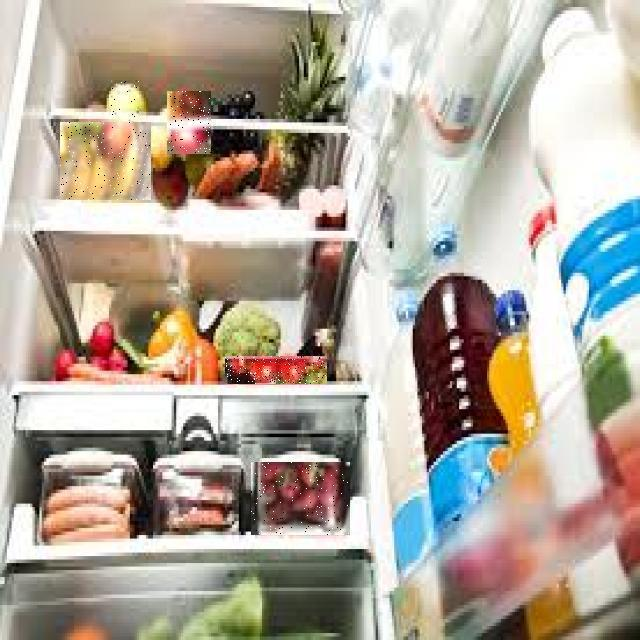apple: (61, 77, 272, 231), (41, 66, 180, 200)
banana: (0, 100, 136, 300)
tomato: (61, 192, 388, 578)
